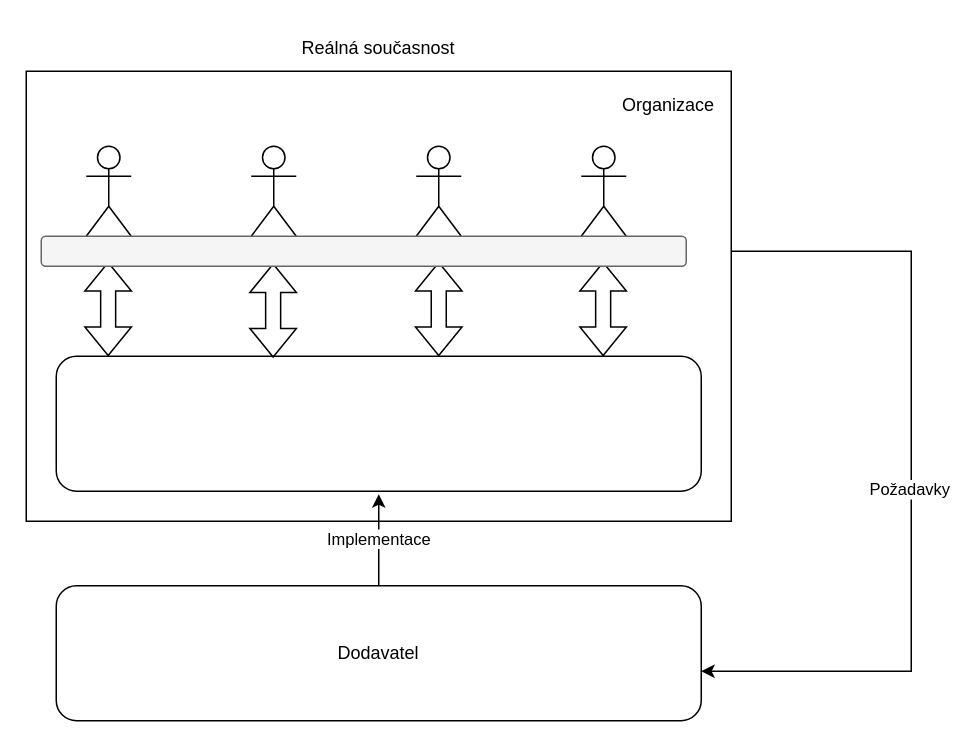
This 975x747 diagram has some shape labels left out. The shapes that lost their labels are listed below. From the top down, each one's centre as x and y in pixels, then its label:
At (363,250): "Shadow IT excely, makra, skripty apod.".
At (378,423): "Oficiální IT".
